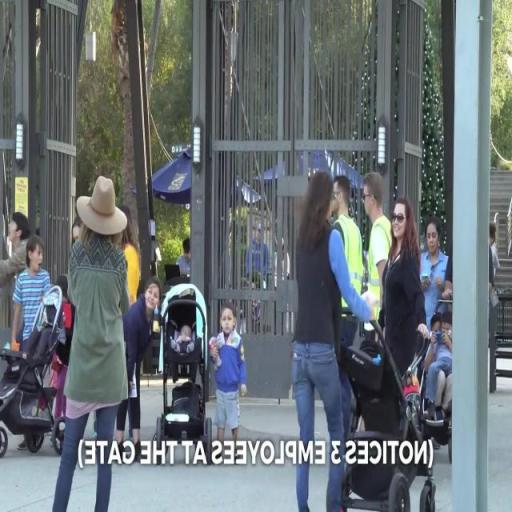vest: (323, 210, 368, 332), (363, 211, 400, 334)
